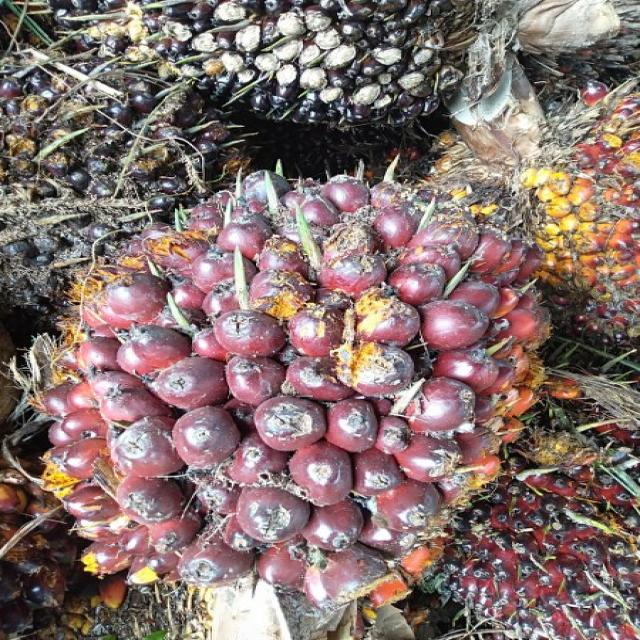fraksi 1: (47, 180, 555, 612)
